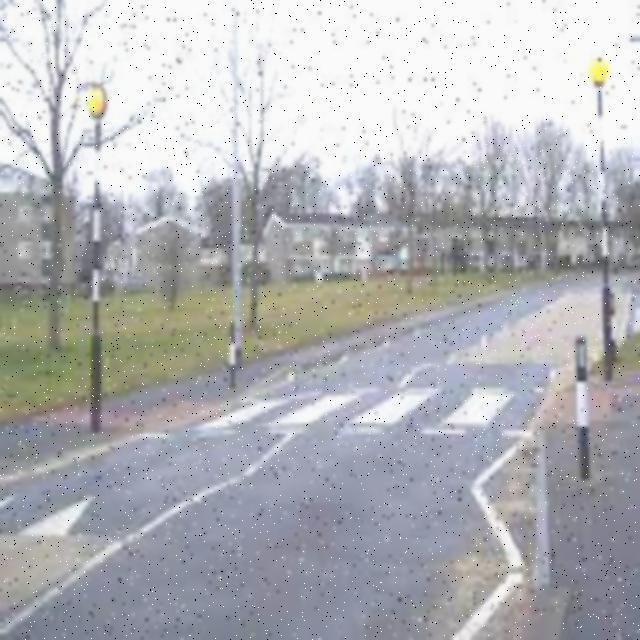Pedestrian crosswalk: (172, 376, 544, 442)
